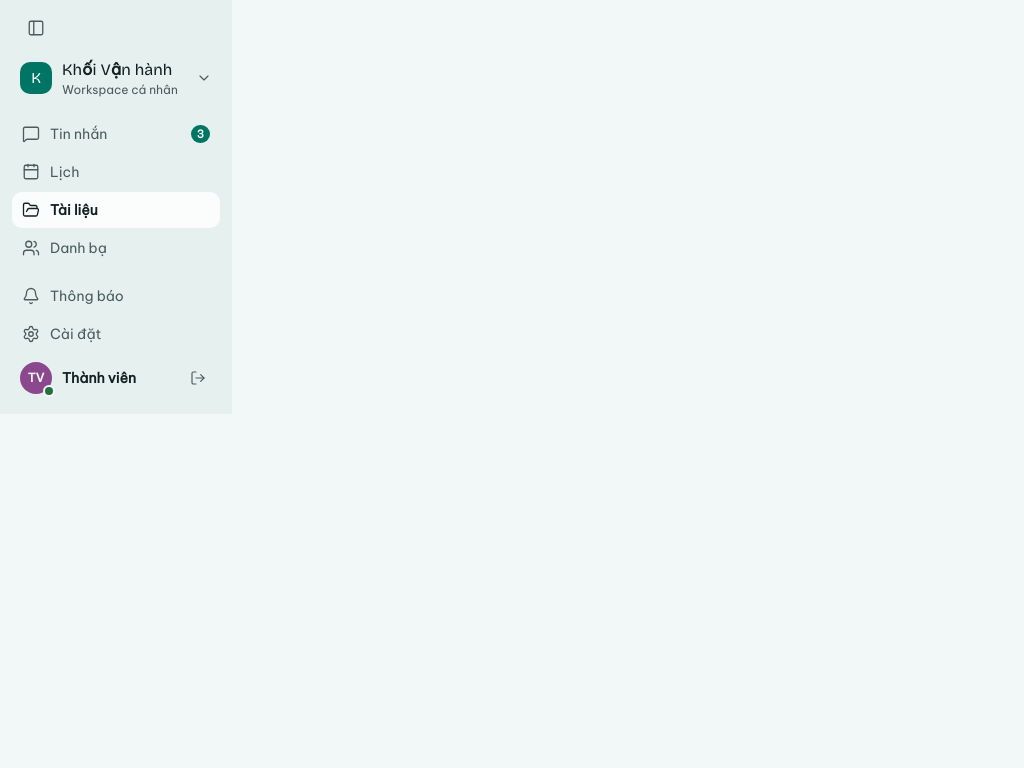
Test: AppSidebar, expanded › shows each workspace type line and a Tạo workspace link in the switcher
What coordinates should you click on to do the following:
click the button "K Khối Vận hành Workspace cá nhân"
I would click on:
 (116, 78)
Its box is [12,52,220,104].
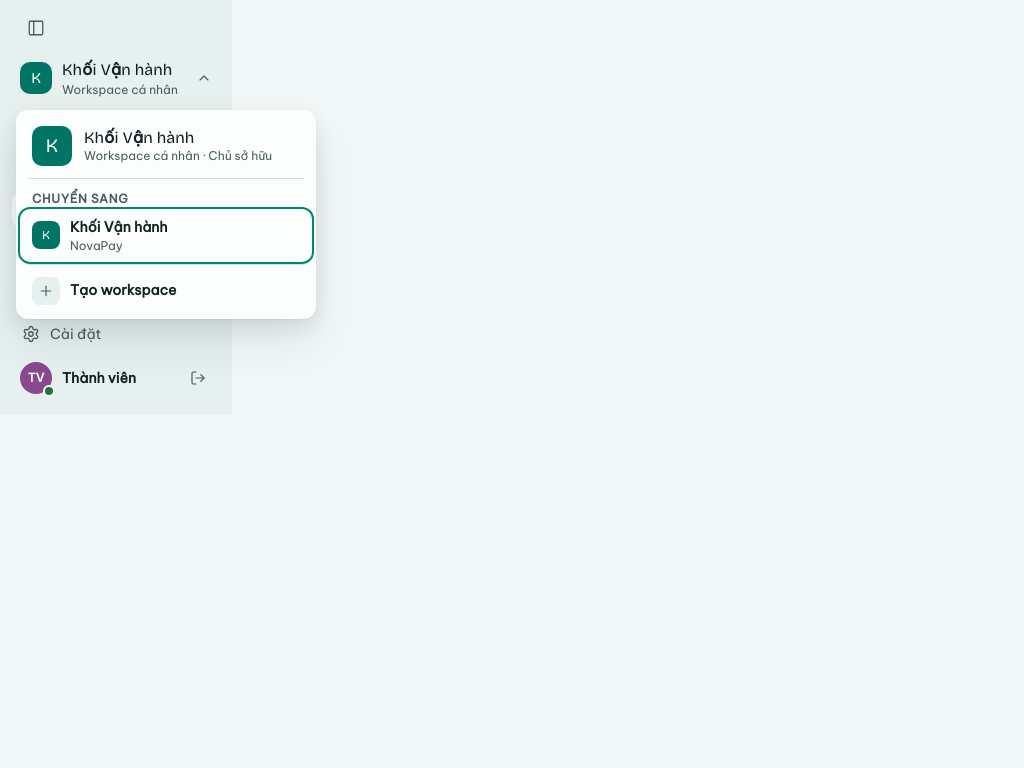
Expected: the number of options is 1, [22,211,310,260]
Expected: the text "NovaPay" is shown, [70,238,123,253]
Expected: the text "Workspace cá nhân · Chủ sở hữu" is shown, [84,148,300,164]
